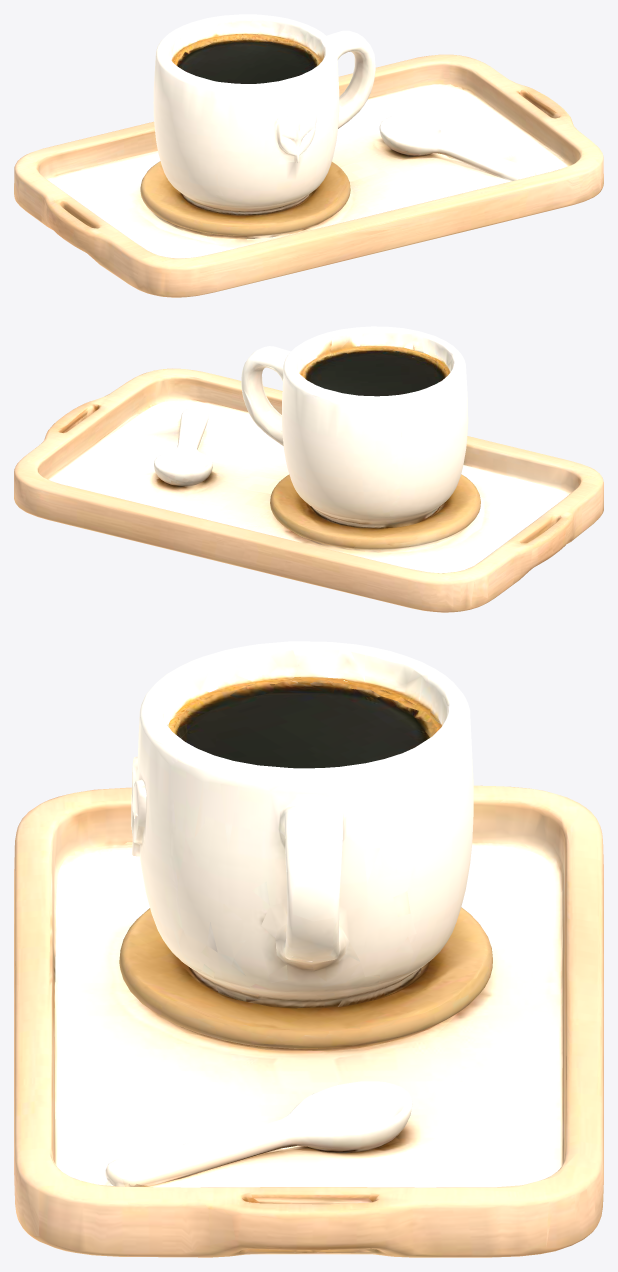
Rendered from cafe-solo.glb.
3 renders of one model, top to bottom at view 1: azimuth 30°, elevation 25°; view 2: azimuth 150°, elevation 25°; view 3: azimuth 270°, elevation 25°, orthographic. The views are drawn at different scales.
Parts seen in each view (by area): view 1: node_0.005; view 2: node_0.005; view 3: node_0.005.
Part boxes in pixels (bbox=[...]): node_0.005: bbox=[14, 14, 603, 297]; node_0.005: bbox=[14, 326, 603, 612]; node_0.005: bbox=[14, 641, 603, 1257].
Size of the model in its own units: 0.5861 by 0.1826 by 0.3338.
1 material, 1 textured.
